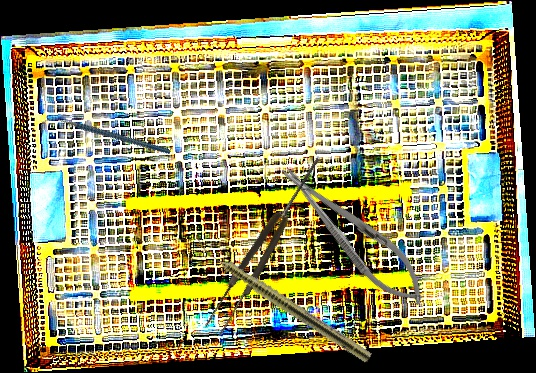Chopper: (40, 80, 172, 193)
Handpiece: (189, 237, 375, 364)
Needle Holder: (268, 151, 440, 319)
Tissue Forceps: (201, 151, 331, 338)
